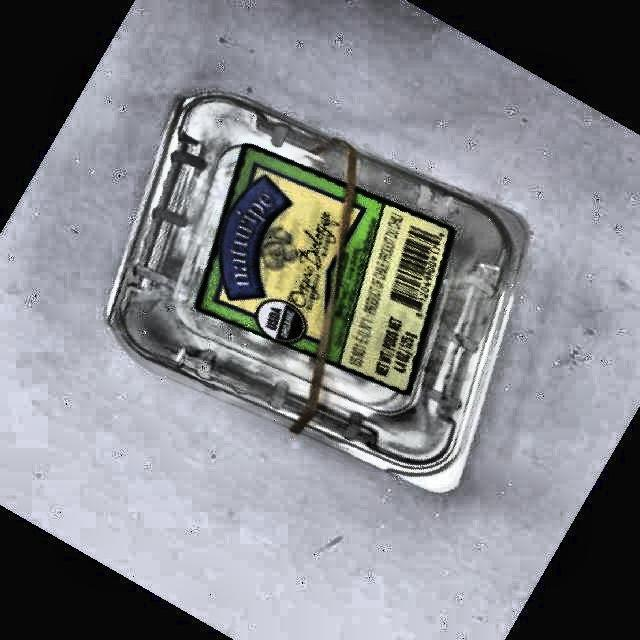plastic: (108, 94, 528, 491)
